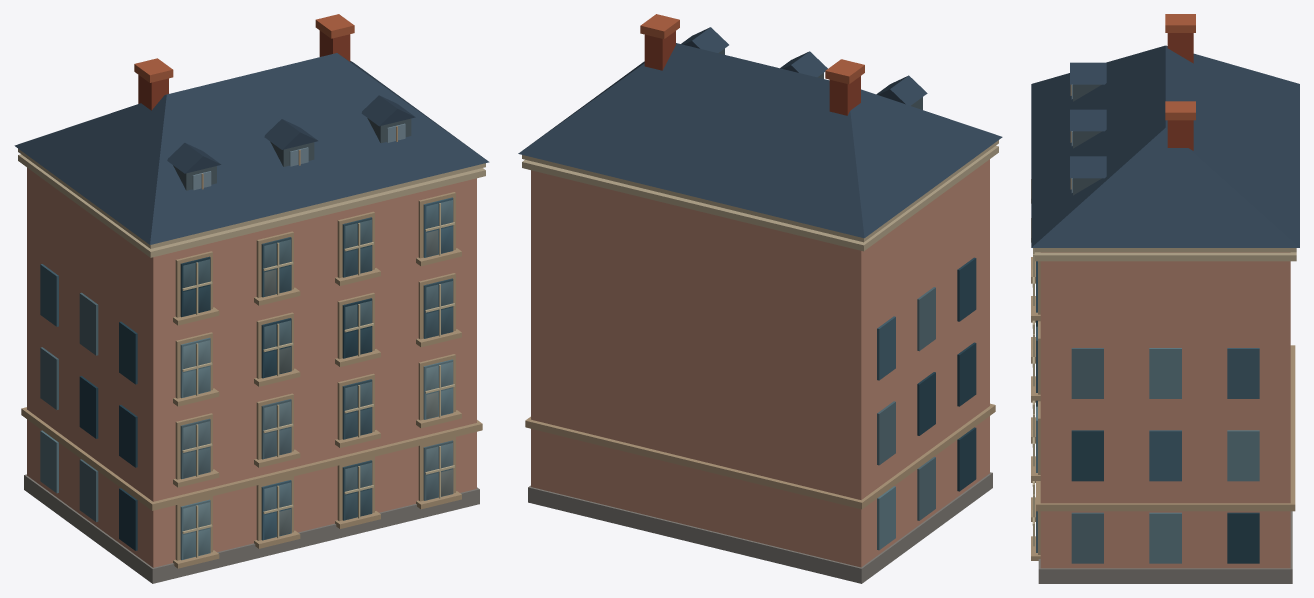
File: rose-tenement.glb
3 views of the same model, side by side, from view 1: azimuth 30°, elevation 25°; view 2: azimuth 150°, elevation 25°; view 3: azimuth 270°, elevation 25° (orthographic). The views are drawn at different scales.
Visible parts, largest first — view 1: rose-tenement; view 2: rose-tenement; view 3: rose-tenement.
Part boxes in pixels (x1,y1,x2,y2): rose-tenement: [14, 14, 489, 583]; rose-tenement: [518, 14, 1002, 583]; rose-tenement: [1031, 14, 1299, 583].
Bounding box in the file's own units: 11.96 × 15.03 × 8.29.
